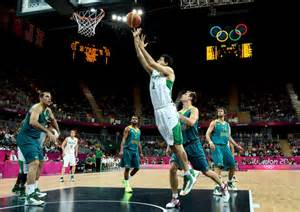basketball: (126, 13, 140, 27)
